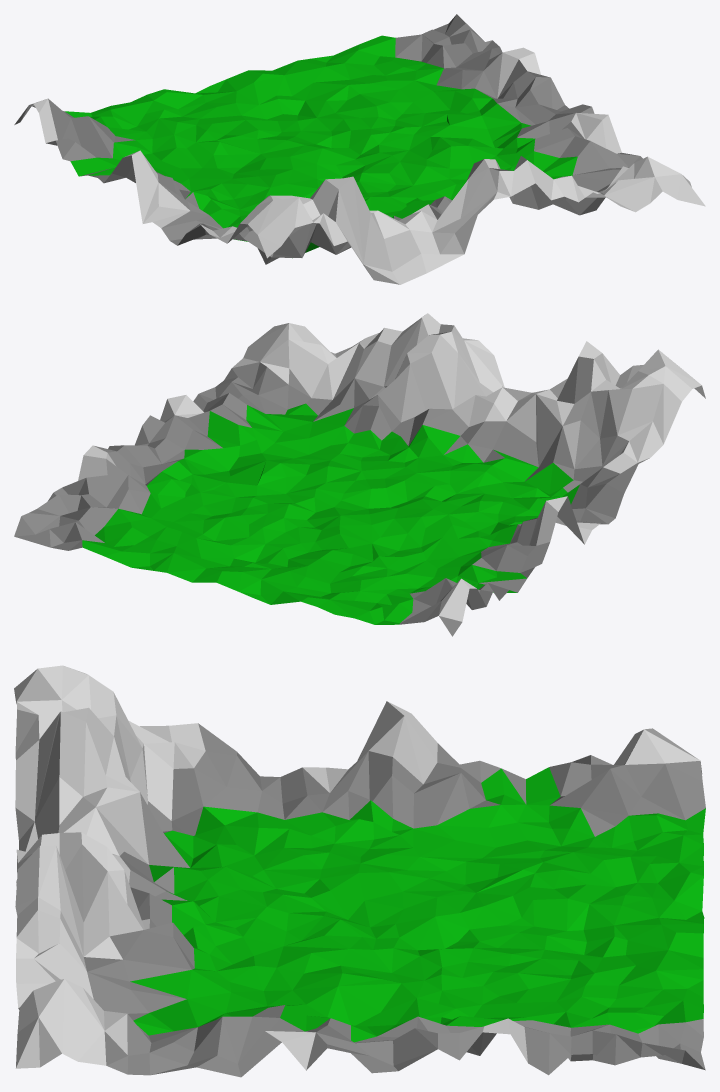
File: Landscape First.fbx
3 views of the same model, one above another, from view 1: azimuth 30°, elevation 25°; view 2: azimuth 150°, elevation 25°; view 3: azimuth 270°, elevation 25° (orthographic). The views are drawn at different scales.
Visible parts, largest first — view 1: Plane; view 2: Plane; view 3: Plane.
Boxes of the visible parts, x1,y1,x2,y2 form: Plane: (14, 14, 705, 284); Plane: (14, 313, 705, 636); Plane: (14, 665, 705, 1077).
Bounding box in the file's own units: 1884 × 470 × 1880.
